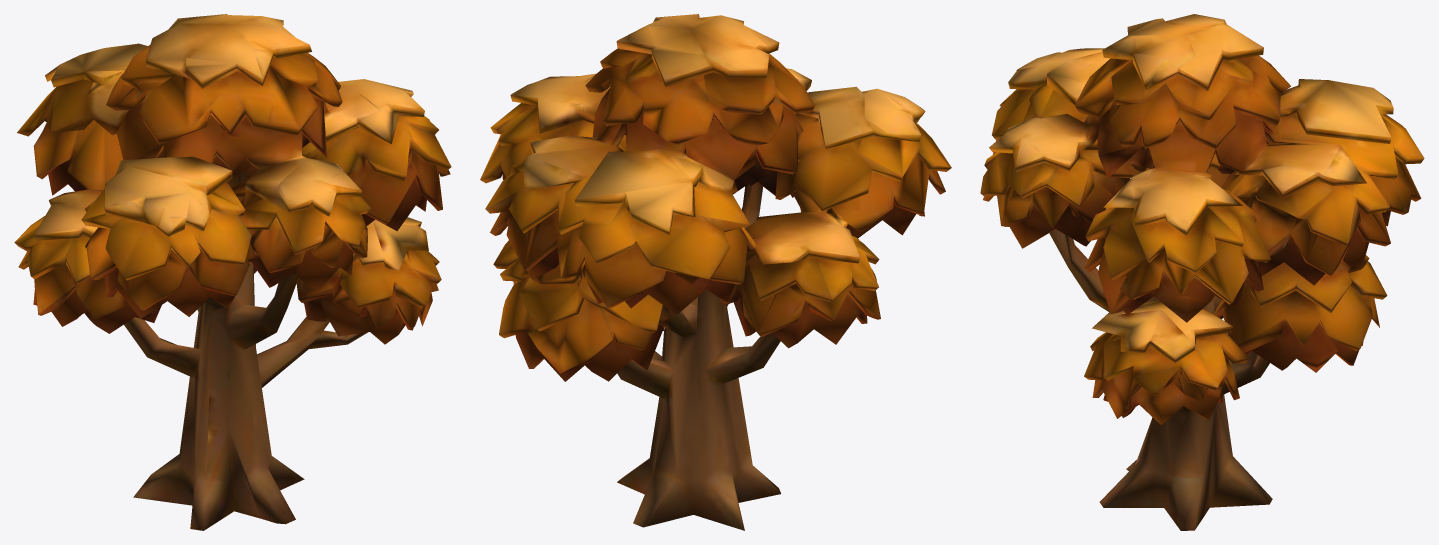
The model's file is autumn-tree-a.glb.
The picture shows the model from 3 angles, left to right: view 1: azimuth 30°, elevation 25°; view 2: azimuth 150°, elevation 25°; view 3: azimuth 270°, elevation 25°; orthographic projection.
Visible parts, largest first — view 1: node_0; view 2: node_0; view 3: node_0.
Boxes of the visible parts, x1,y1,x2,y2 form: node_0: (14,14,451,530); node_0: (480,14,951,530); node_0: (980,14,1424,530).
Bounding box in the file's own units: 7.84 × 8.99 × 7.83.
Materials: 1 (1 with a texture image).
